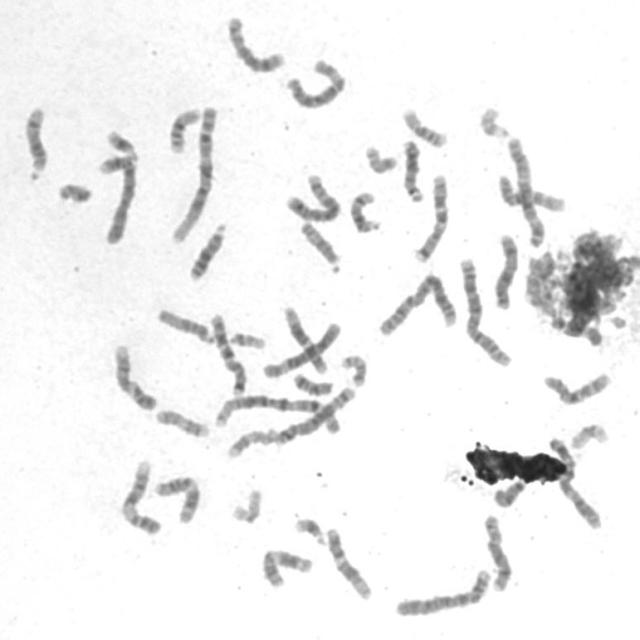A1: (166, 99, 220, 246), (209, 389, 346, 436)
A2: (456, 253, 516, 368), (374, 268, 461, 338)
A3: (544, 432, 604, 530), (501, 131, 548, 248)
B4: (391, 564, 494, 618), (96, 149, 140, 246)
B5: (270, 382, 358, 446), (281, 168, 344, 224)
C10: (494, 168, 569, 214), (539, 366, 615, 407)
C11: (150, 470, 203, 526), (258, 543, 316, 590)
C12: (323, 522, 375, 601), (279, 301, 329, 375)
C6: (259, 318, 344, 379), (282, 53, 348, 111)
C7: (410, 168, 452, 264), (206, 308, 249, 397)
C8: (223, 10, 288, 74), (480, 508, 515, 594)
C9: (117, 454, 164, 537), (110, 339, 160, 412)
D13: (185, 216, 230, 283), (398, 134, 427, 203)
D14: (19, 100, 51, 181), (346, 185, 384, 235)
D15: (153, 303, 218, 346), (296, 216, 344, 274)
E16: (398, 102, 450, 149), (164, 102, 203, 154)
E17: (151, 402, 213, 440), (223, 422, 281, 460)
E18: (289, 368, 336, 397), (490, 475, 527, 509)
F19: (228, 483, 266, 525), (567, 418, 612, 451)
F20: (361, 140, 400, 176), (338, 349, 370, 388)
G21: (102, 124, 140, 160), (290, 511, 328, 546)
G22: (475, 100, 513, 140), (225, 327, 268, 350)
X: (490, 228, 521, 311)
Y: (53, 176, 95, 205)
